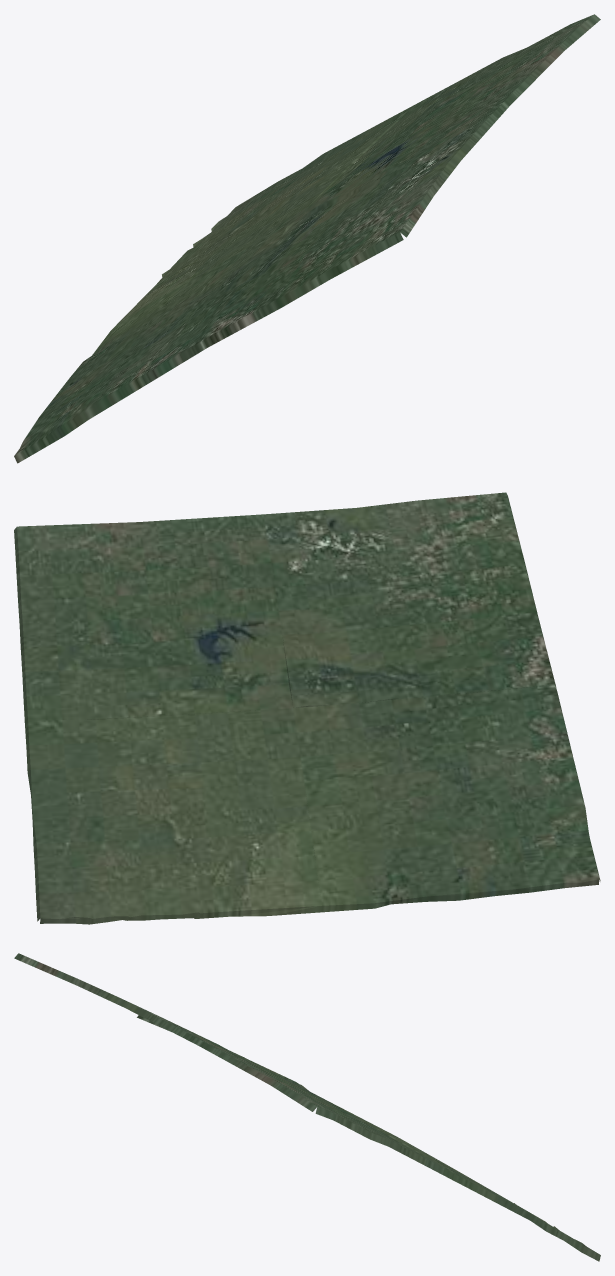
3 renders of one model, top to bottom at view 1: azimuth 30°, elevation 25°; view 2: azimuth 150°, elevation 25°; view 3: azimuth 270°, elevation 25°, orthographic. The views are drawn at different scales.
Size of the model in its own units: 902412 by 388619 by 868921.
Materials: 1 (1 with a texture image).
